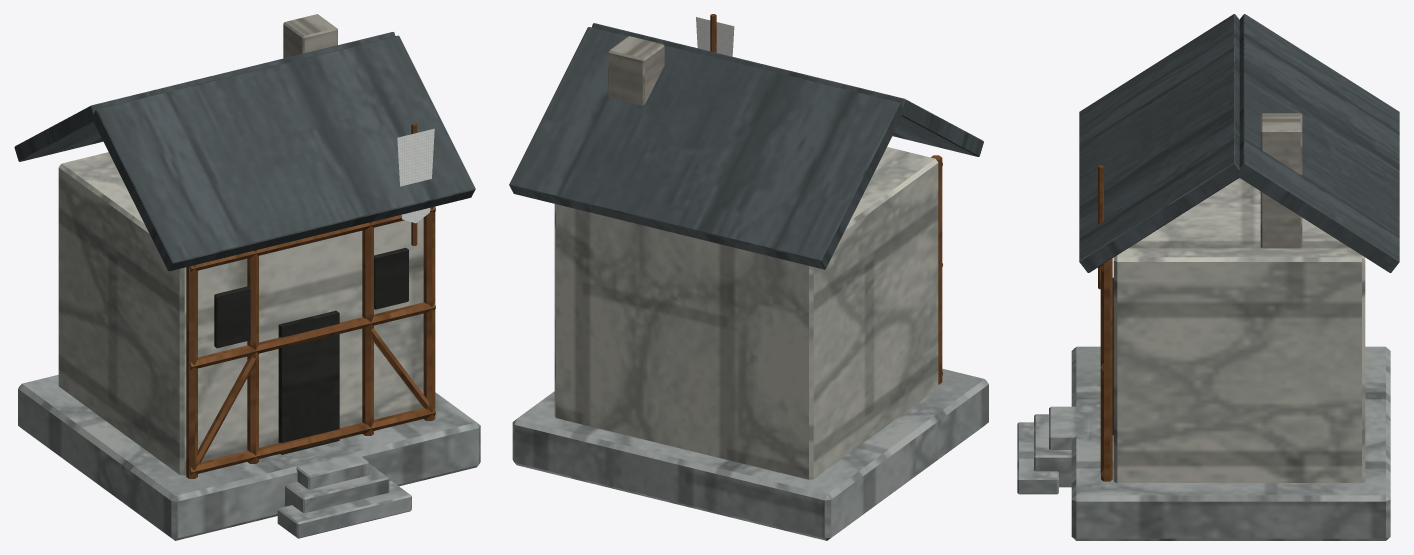
The model's file is edificio-house-e2-BQ53WCJe.glb.
3 views of the same model, side by side, from view 1: azimuth 30°, elevation 25°; view 2: azimuth 150°, elevation 25°; view 3: azimuth 270°, elevation 25° (orthographic). The views are drawn at different scales.
Parts seen in each view (by area): view 1: casa_e2_envolvente, casa_e2_detalles, casa_e2_team_color; view 2: casa_e2_envolvente, casa_e2_detalles, casa_e2_team_color; view 3: casa_e2_envolvente, casa_e2_detalles.
Boxes of the visible parts, <box> form: casa_e2_envolvente: <box>18,152,480,540</box>; casa_e2_detalles: <box>14,14,475,478</box>; casa_e2_team_color: <box>397,128,434,223</box>; casa_e2_envolvente: <box>512,147,988,540</box>; casa_e2_detalles: <box>509,14,983,384</box>; casa_e2_team_color: <box>696,17,734,56</box>; casa_e2_envolvente: <box>1017,178,1390,540</box>; casa_e2_detalles: <box>1079,14,1399,481</box>.
Bounding box in the file's own units: 43 × 51 × 45.6.
3 materials, 3 textured.
